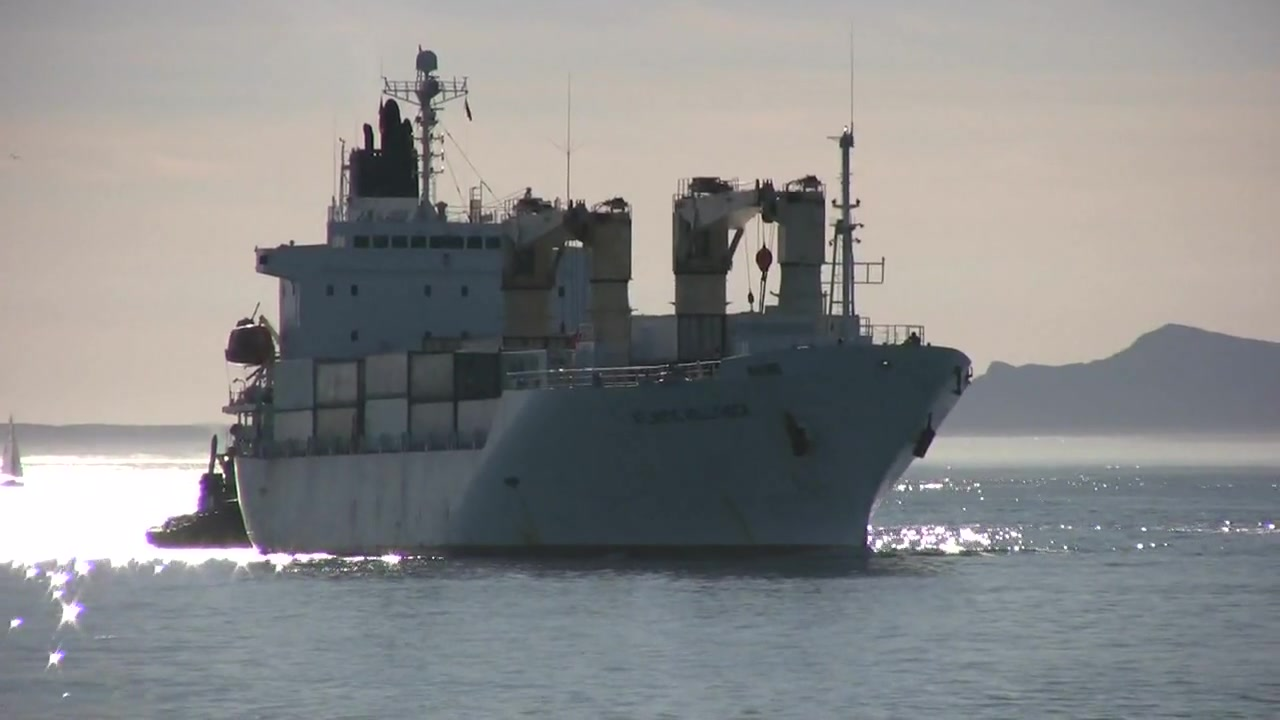boat: (219, 43, 979, 570), (146, 435, 255, 552), (1, 409, 24, 490)
